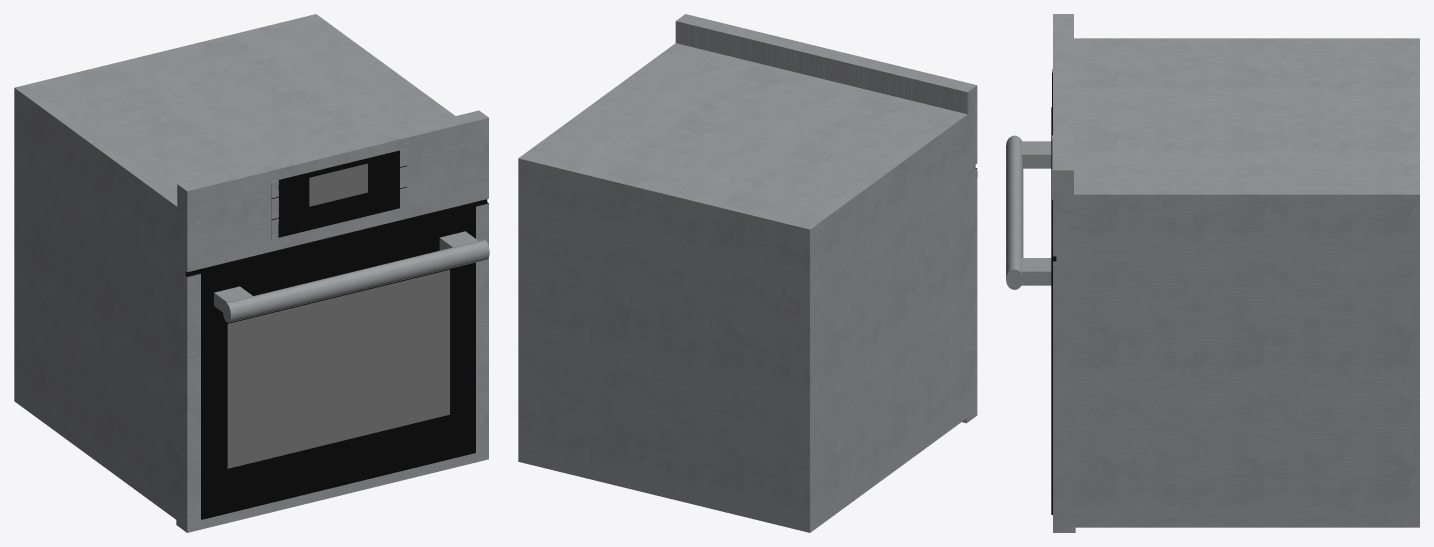
The model's file is OVEN-24.glb.
The picture shows the model from 3 angles, left to right: view 1: azimuth 30°, elevation 25°; view 2: azimuth 150°, elevation 25°; view 3: azimuth 270°, elevation 25°; orthographic projection. The views are drawn at different scales.
Visible parts, largest first — view 1: Oven_24; view 2: Oven_24; view 3: Oven_24.
Part boxes in pixels (x1,y1,x2,y2): Oven_24: (14, 14, 489, 532); Oven_24: (518, 14, 977, 532); Oven_24: (1006, 14, 1419, 532).
Size of the model in its own units: 551 by 596 by 617.
3 materials, 1 textured.
